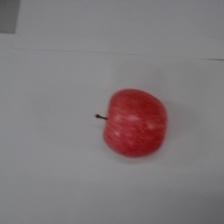red: (100, 86, 169, 159)
